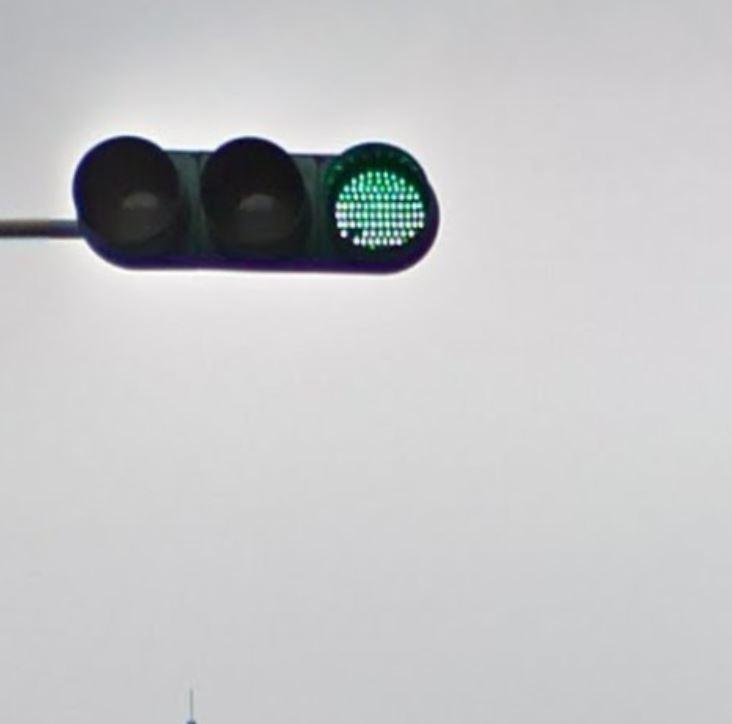green_traffic_light: (68, 132, 443, 276)
